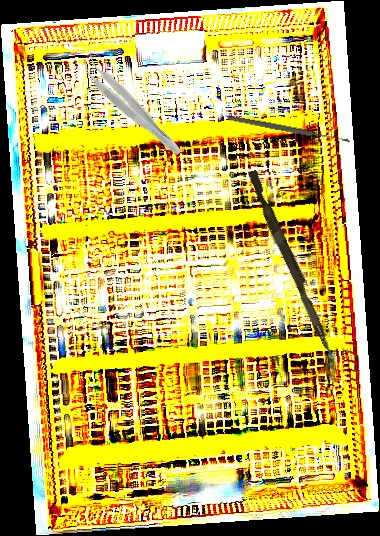Pusher: (242, 169, 342, 359)
Surgical Spoon: (226, 114, 351, 145)
Tissue Forceps: (75, 51, 189, 160)
